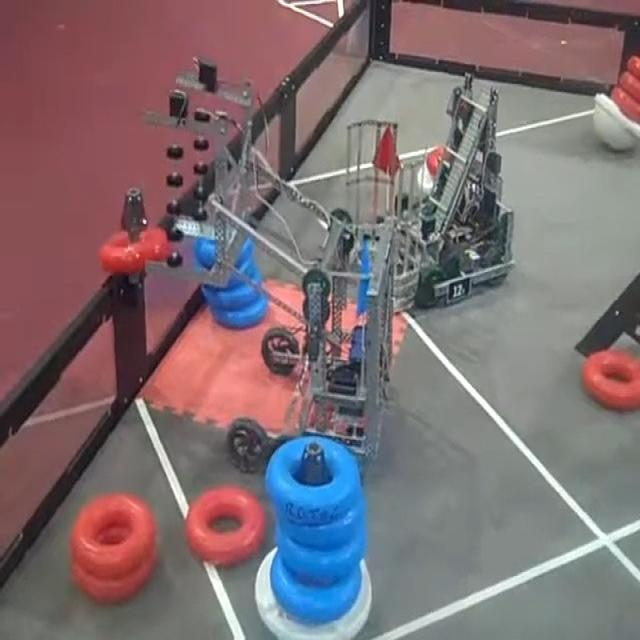Blue-Ring: (266, 437, 361, 524), (270, 550, 361, 624), (278, 530, 366, 584), (276, 500, 365, 549)
Red-Ring: (70, 495, 156, 578), (186, 487, 265, 566), (582, 348, 640, 409), (99, 227, 174, 274), (72, 562, 150, 603), (609, 90, 640, 125), (620, 69, 640, 103), (627, 52, 640, 81)
